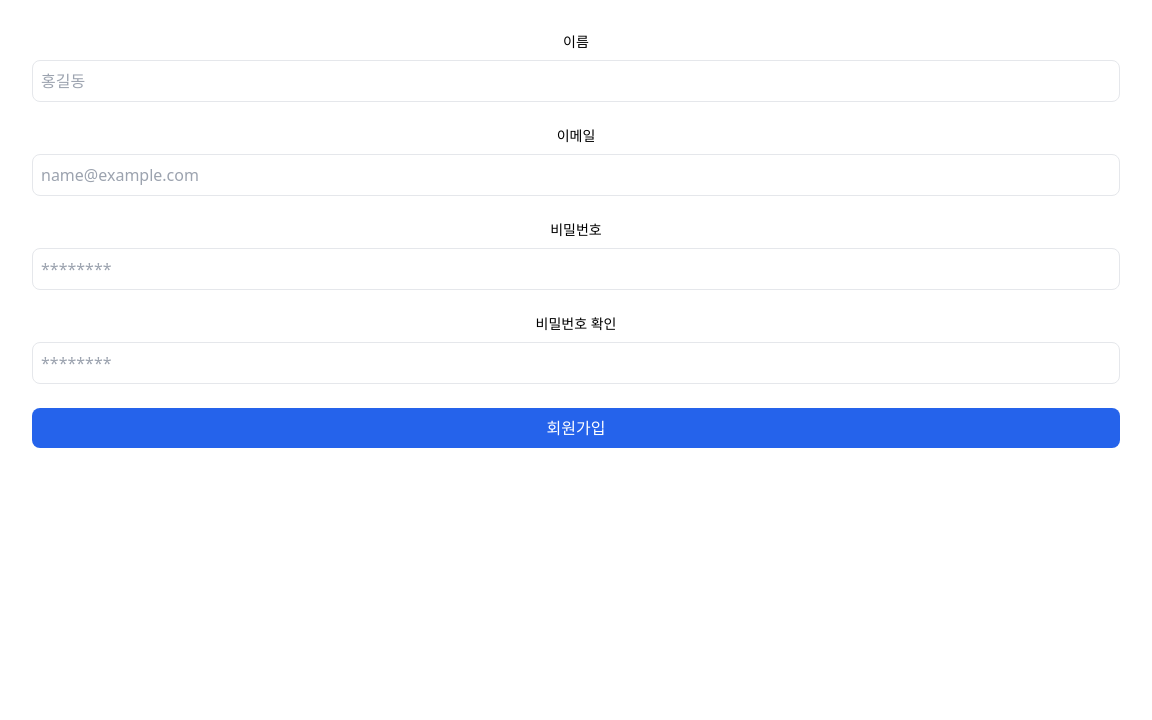
Test: SignupForm › 기본 랜더링 및 유효성 검사 › 이름이 2자 미만일 떄 에러 메시지를 표시해야 함
This screenshot has width=1152, height=720.
Type "김" into the field with test id "name-input" at (576, 81), box [32, 60, 1120, 102]
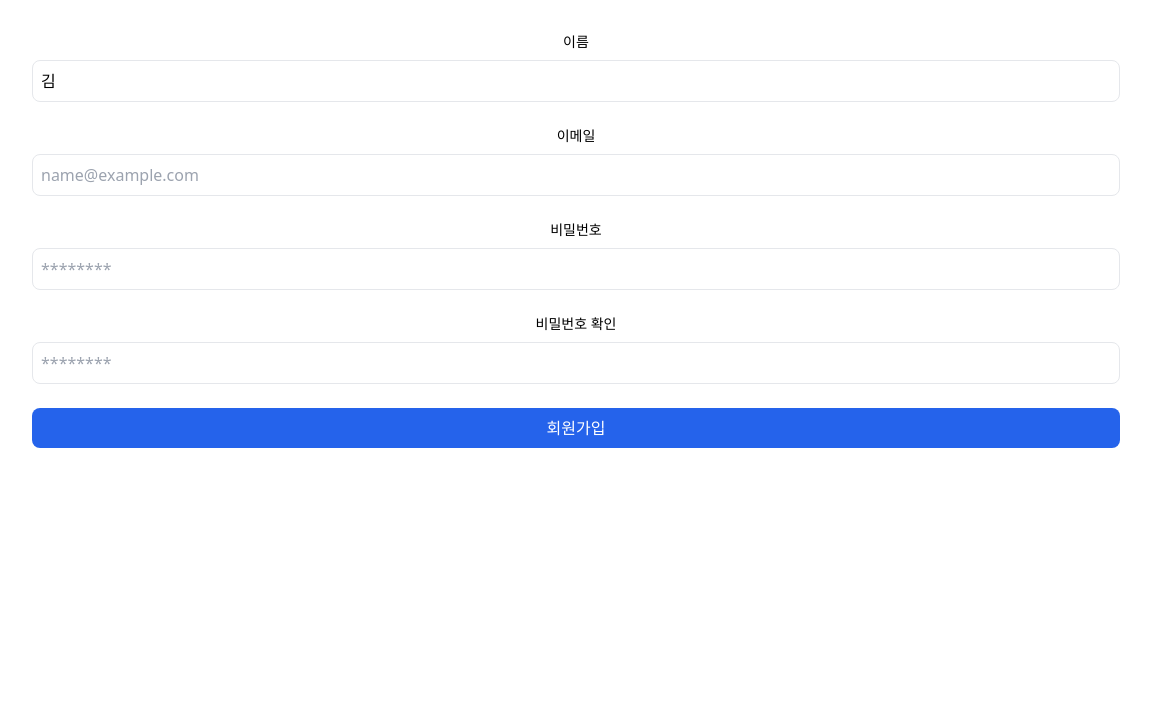
Click the button with test id "submit-button" at (576, 428), box [32, 408, 1120, 448]
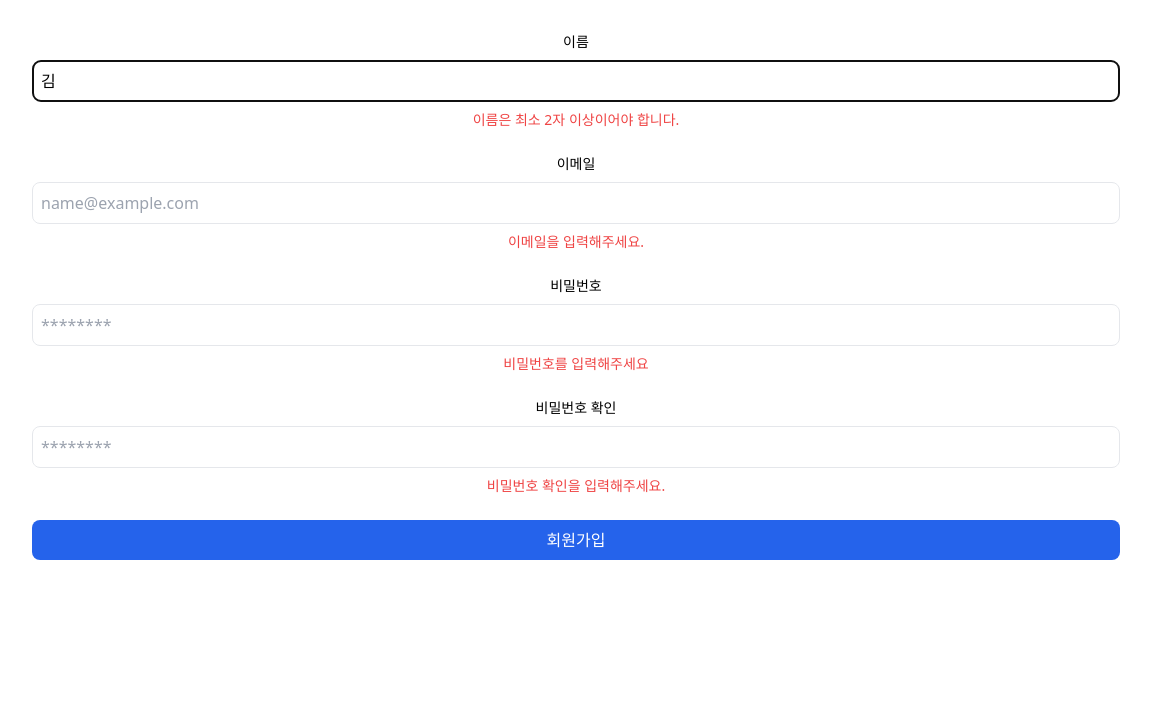
Now the text with test id "name-error" shows "이름은 최소 2자 이상이어야 합니다", box [473, 110, 679, 129]
